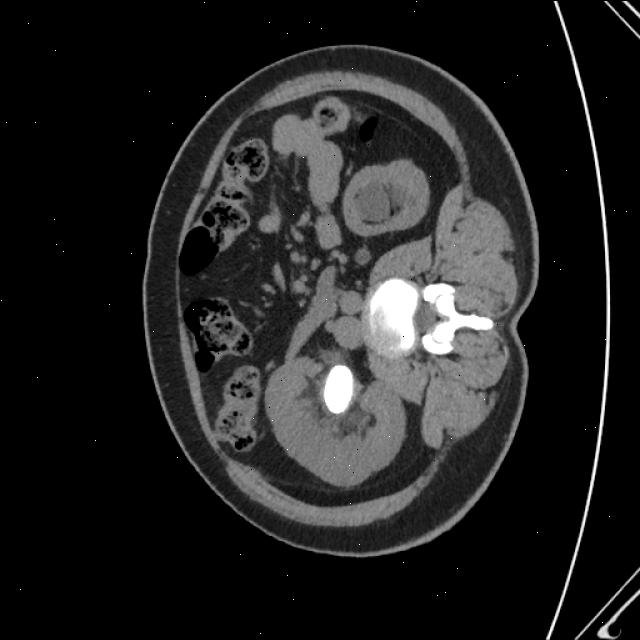kidneystone: (324, 365, 353, 412)
